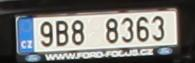3: (151, 15, 165, 41), (121, 17, 134, 43)
6: (136, 17, 150, 41)
8: (71, 19, 86, 46), (105, 19, 119, 44)
9: (39, 22, 54, 47)
B: (56, 20, 70, 47)
